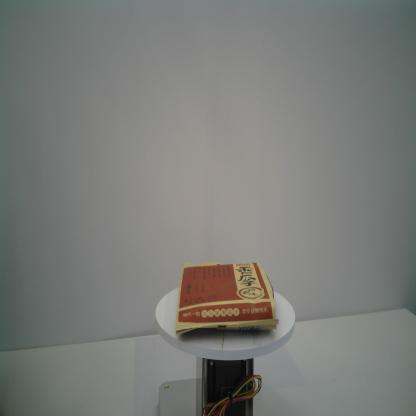Dried Food: (174, 260, 279, 338)
